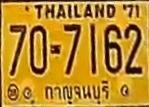0: (30, 25, 47, 74)
1: (90, 23, 97, 75)
2: (124, 24, 143, 74)
6: (104, 24, 121, 72)
7: (9, 24, 26, 72), (64, 24, 81, 72)
KRI: (41, 80, 114, 106)
